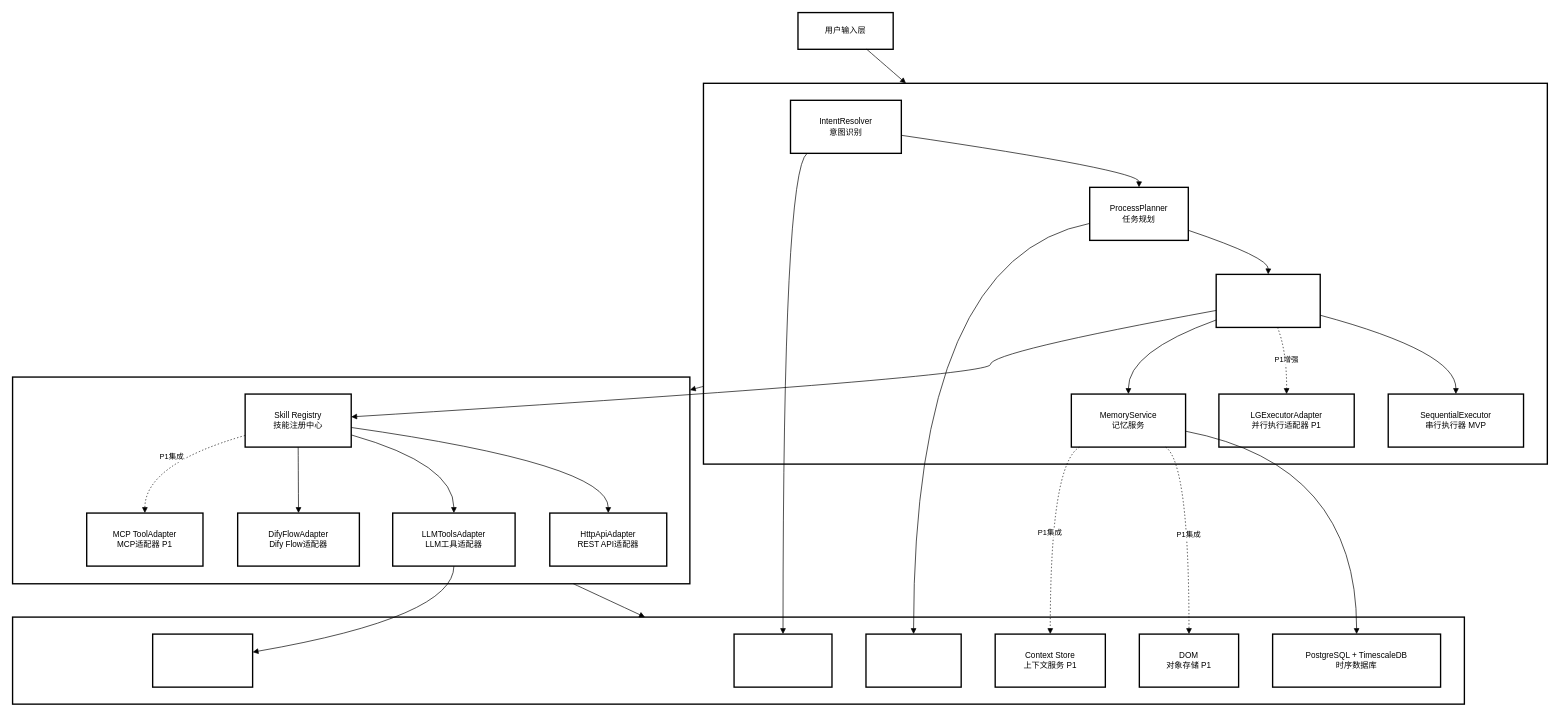
The diagram is 1559 pixels wide and 716 high, and some of its shapes have lost their labels. Here are the shapes that lost their labels. From the top down, the box of each, then its label:
(702, 82, 1548, 464): 编排层 Orchestration Layer
(1215, 273, 1321, 328): GraphRunner 图式执行
(12, 376, 690, 584): 活动智能体层 Action Agent Layer
(152, 633, 253, 687): LLMProvider LLM抽象层
(12, 616, 1465, 704): 基础设施层 Infrastructure Layer
(733, 633, 832, 687): VectorStore 向量数据库
(865, 633, 962, 687): Redis 缓存与队列
